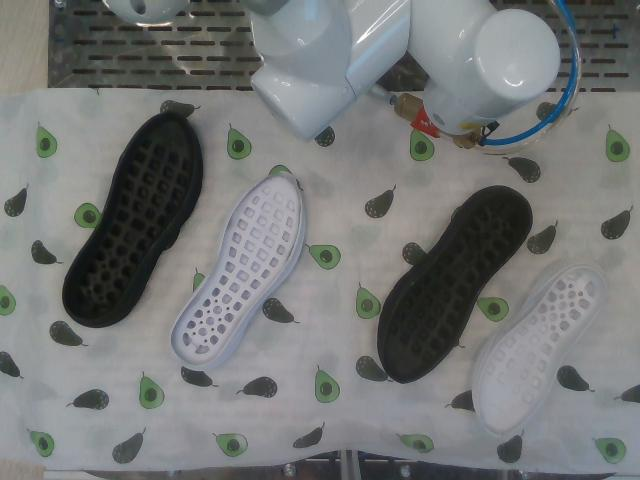shoes: (384, 192, 529, 381), (65, 113, 194, 320), (172, 174, 301, 366), (479, 268, 605, 435)
